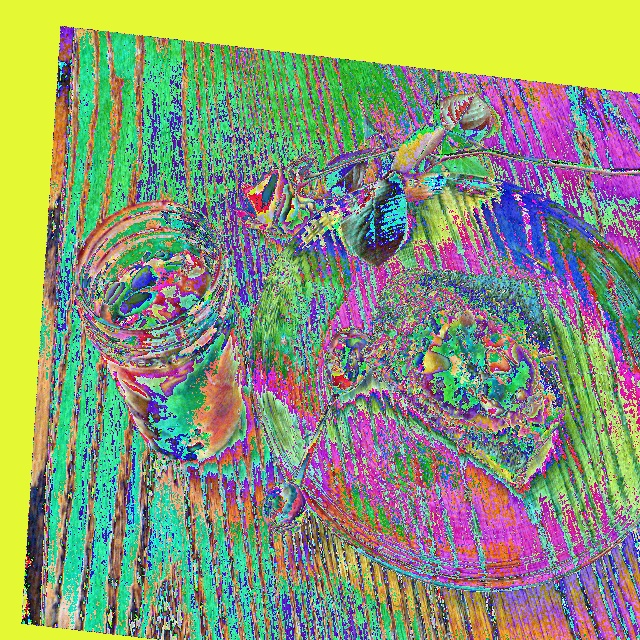background: (242, 221, 567, 488), (99, 212, 244, 460)
